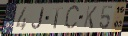4: (14, 6, 28, 32)
5: (98, 4, 114, 30)
C: (63, 4, 81, 32)
J: (31, 7, 46, 30)
K: (82, 6, 98, 30)
T: (52, 7, 64, 30)
